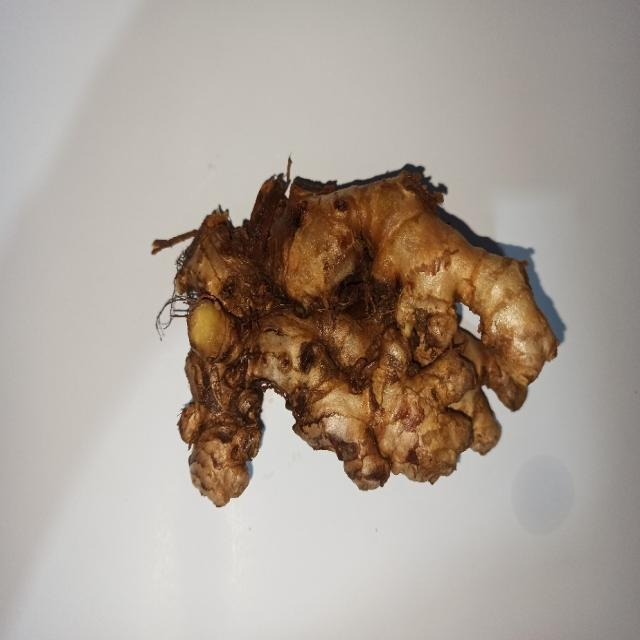ginger: (169, 159, 559, 504)
